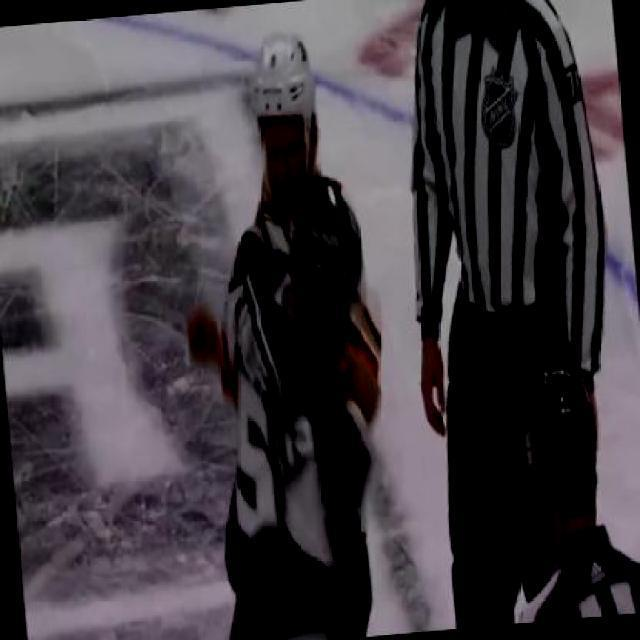fight: (158, 26, 411, 639)
